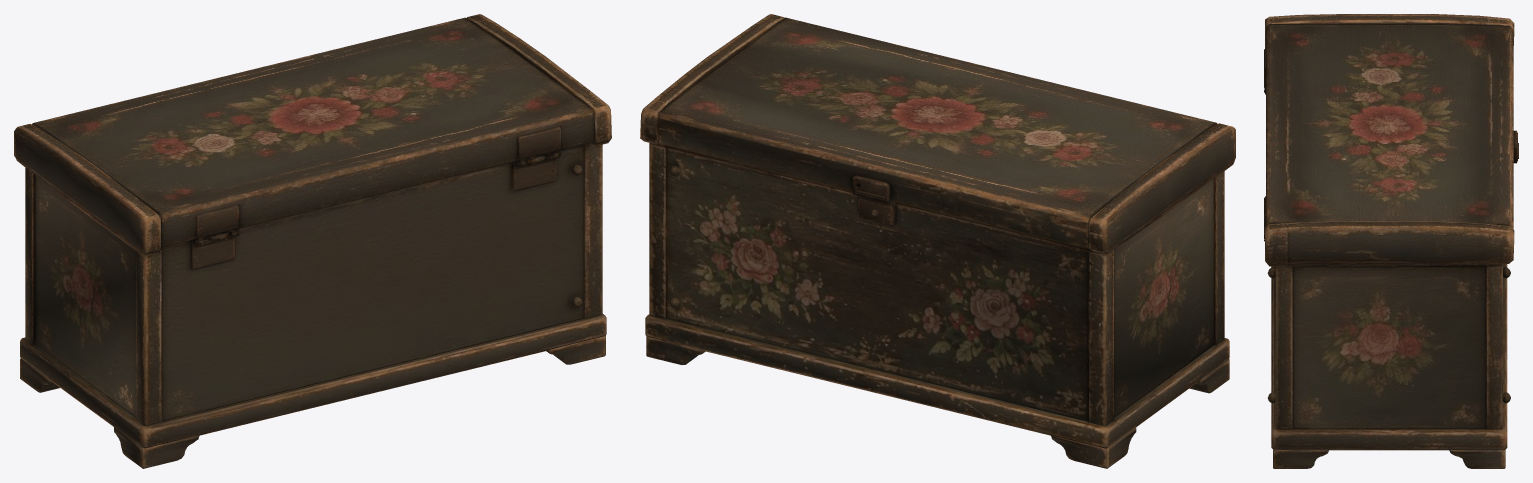
The model's file is furniture-toy-chest.glb.
The picture shows the model from 3 angles, left to right: view 1: azimuth 30°, elevation 25°; view 2: azimuth 150°, elevation 25°; view 3: azimuth 270°, elevation 25°; orthographic projection. The views are drawn at different scales.
Parts seen in each view (by area): view 1: tripo_node_7c7ea171-534f-4756-bd8c-aad5cfcad00c; view 2: tripo_node_7c7ea171-534f-4756-bd8c-aad5cfcad00c; view 3: tripo_node_7c7ea171-534f-4756-bd8c-aad5cfcad00c.
Boxes of the visible parts, box(x1,y1,x2,y2) form: tripo_node_7c7ea171-534f-4756-bd8c-aad5cfcad00c: box(14, 14, 611, 468); tripo_node_7c7ea171-534f-4756-bd8c-aad5cfcad00c: box(640, 14, 1235, 468); tripo_node_7c7ea171-534f-4756-bd8c-aad5cfcad00c: box(1264, 14, 1518, 468).
Bounding box in the file's own units: 1.3 × 0.68 × 0.65.
Materials: 1 (1 with a texture image).
